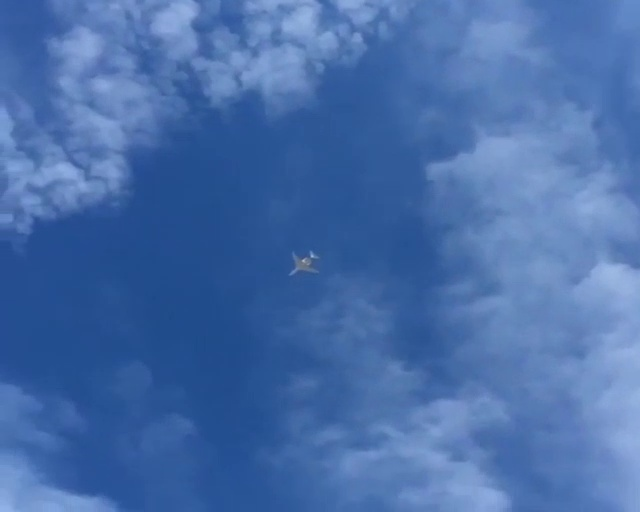AIRPLANE: (209, 203, 309, 292)
